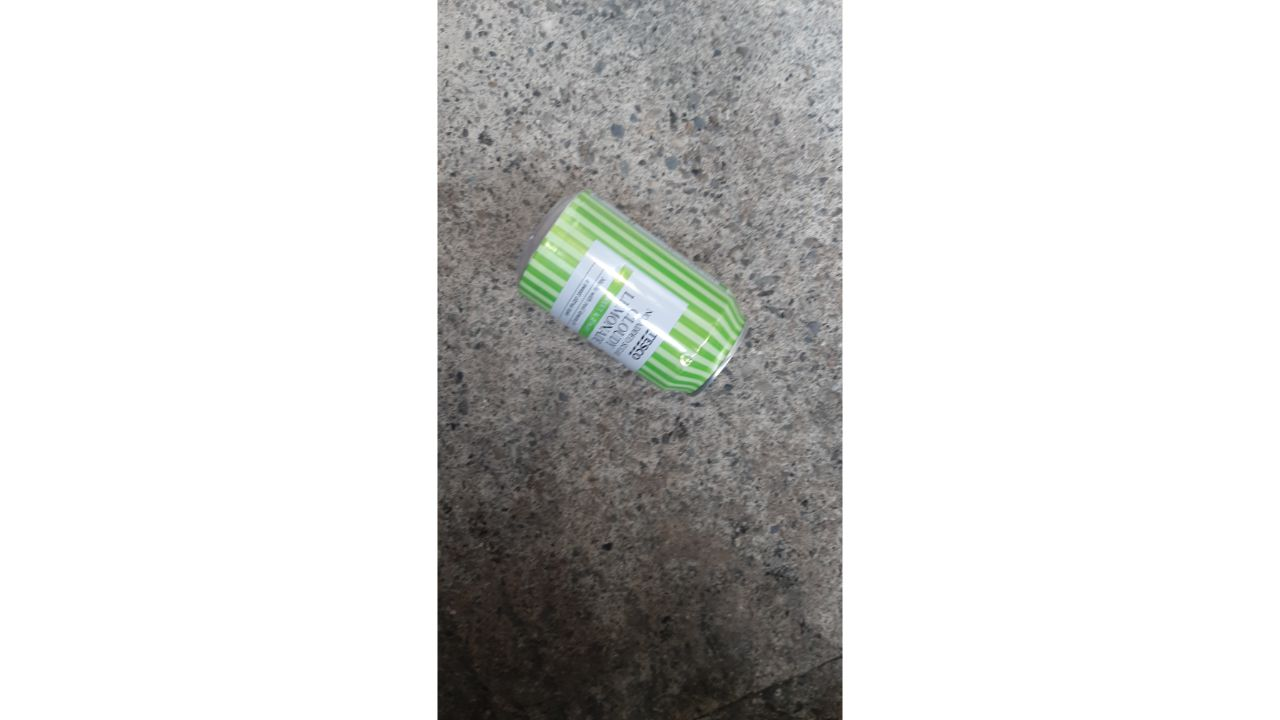Can: (506, 178, 757, 414)
